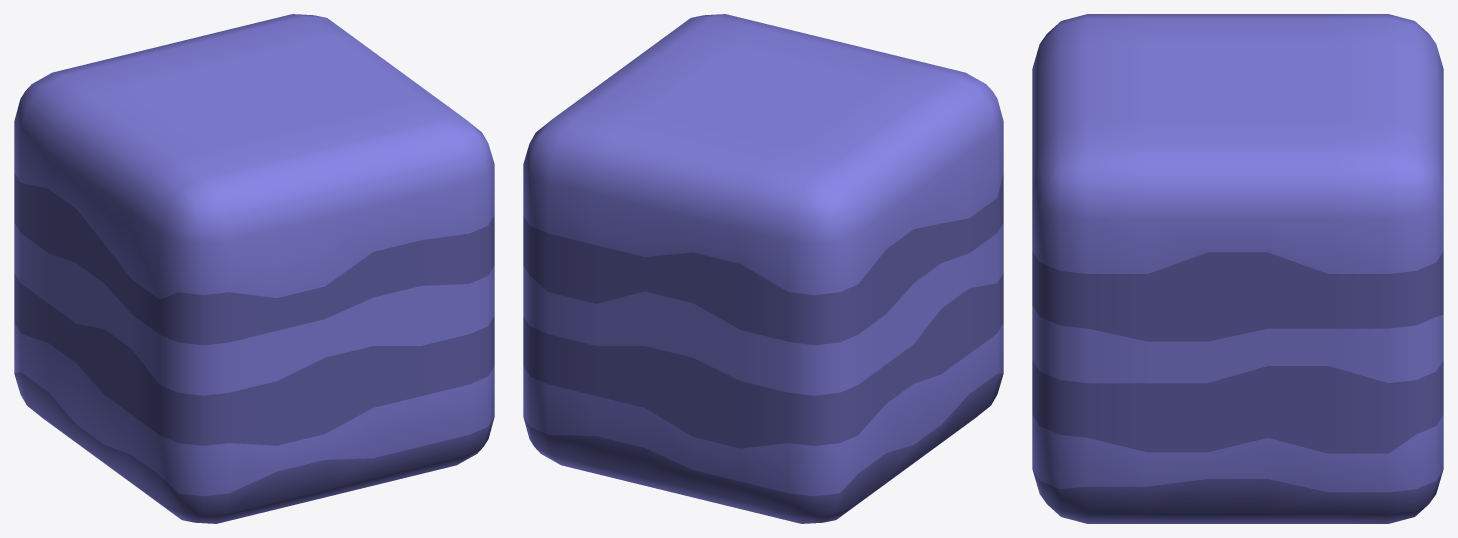
File: Stone024.fbx
The picture shows the model from 3 angles, left to right: view 1: azimuth 30°, elevation 25°; view 2: azimuth 150°, elevation 25°; view 3: azimuth 270°, elevation 25°; orthographic projection. The views are drawn at different scales.
Visible parts, largest first — view 1: Stone024; view 2: Stone024; view 3: Stone024.
Boxes of the visible parts, <box> form: Stone024: <box>14,14,494,523</box>; Stone024: <box>523,14,1003,523</box>; Stone024: <box>1032,14,1443,523</box>.
Bounding box in the file's own units: 156 × 156 × 156.
